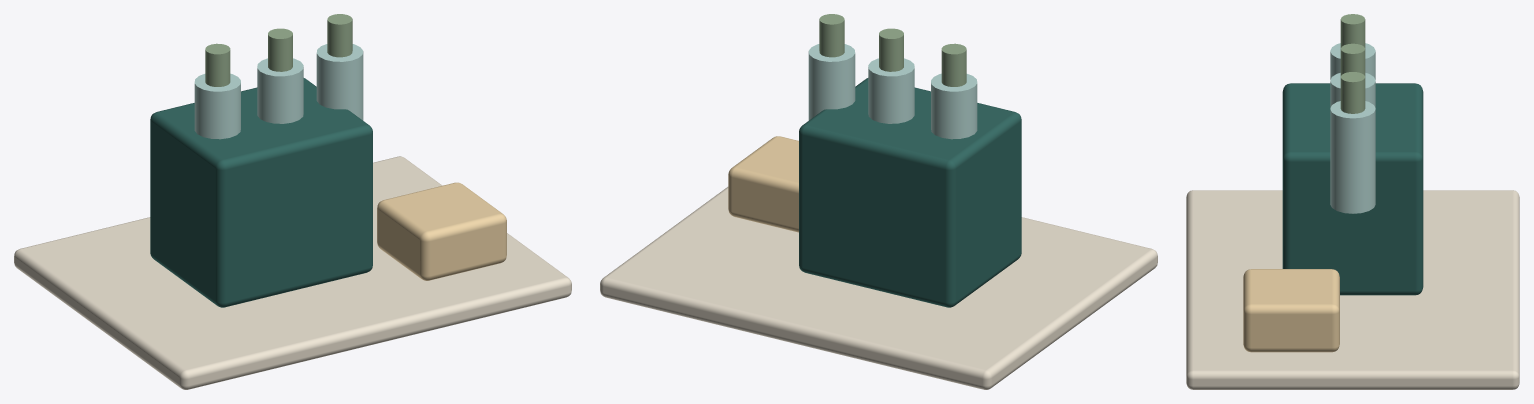
File: work-recycling.glb
3 views of the same model, side by side, from view 1: azimuth 30°, elevation 25°; view 2: azimuth 150°, elevation 25°; view 3: azimuth 270°, elevation 25° (orthographic). The views are drawn at different scales.
Visible parts, largest first — view 1: display-plinth, recycling-crate, cardboard, bottle (×3), bottle-neck (×3); view 2: display-plinth, recycling-crate, bottle (×3), cardboard, bottle-neck (×3); view 3: display-plinth, recycling-crate, cardboard, bottle (×3), bottle-neck (×3).
Boxes of the visible parts, <box> form: display-plinth: <box>14,156,571,389</box>; recycling-crate: <box>150,78,372,307</box>; cardboard: <box>377,182,506,280</box>; bottle (×3): <box>194,44,363,139</box>; bottle-neck (×3): <box>205,14,352,86</box>; display-plinth: <box>600,187,1157,389</box>; recycling-crate: <box>799,78,1021,307</box>; bottle (×3): <box>808,44,977,139</box>; cardboard: <box>728,136,798,232</box>; bottle-neck (×3): <box>819,14,966,86</box>; display-plinth: <box>1186,190,1519,389</box>; recycling-crate: <box>1282,83,1423,295</box>; cardboard: <box>1243,269,1339,352</box>; bottle (×3): <box>1330,43,1375,213</box>; bottle-neck (×3): <box>1340,14,1365,113</box>.
Size of the model in its own units: 2.5 by 1.54 by 1.9.
